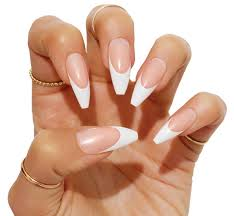nail: (76, 123, 139, 155), (130, 55, 167, 108), (151, 107, 198, 144), (65, 52, 91, 110), (107, 37, 130, 96)
